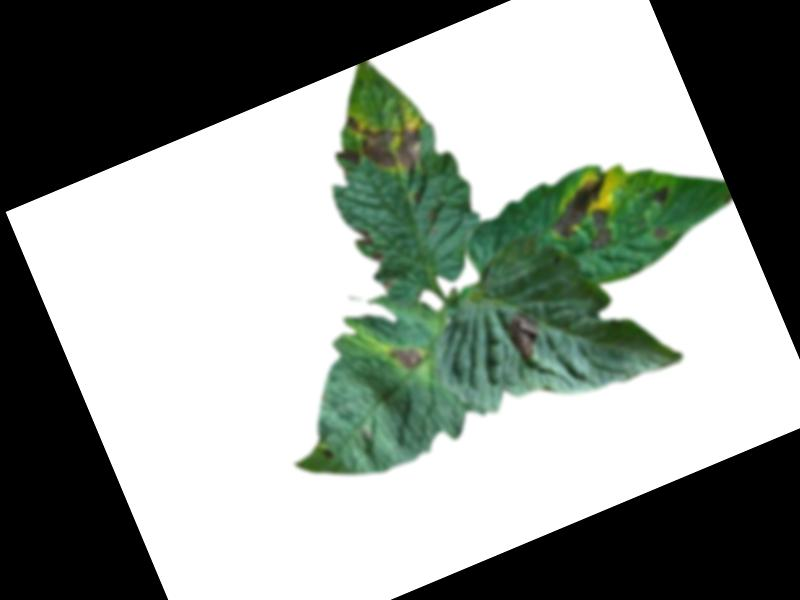Early_blight: (342, 93, 433, 187), (541, 172, 631, 264), (500, 304, 550, 364), (350, 223, 386, 268), (387, 340, 425, 376), (333, 141, 364, 172), (646, 184, 674, 208), (651, 225, 671, 243), (318, 446, 334, 464)
